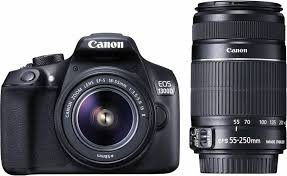camera: (3, 45, 180, 169)
